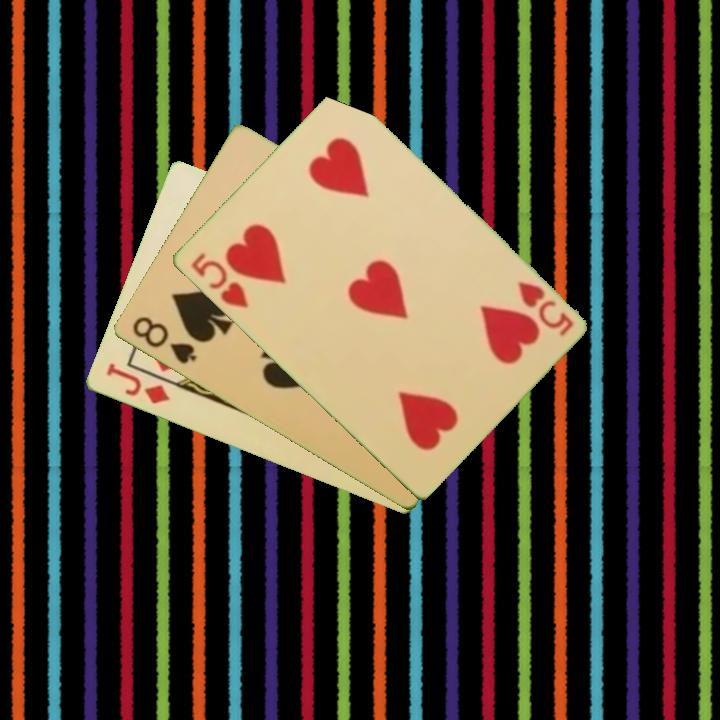5h: (186, 249, 251, 312), (513, 277, 576, 339)
8s: (128, 313, 199, 367)
Jd: (102, 360, 173, 407)
